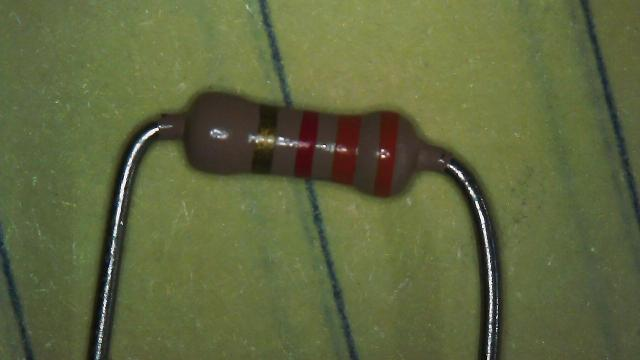gold: (252, 105, 277, 174)
orange: (374, 112, 398, 196), (332, 116, 360, 185)
red: (294, 110, 320, 178)
resistor: (155, 72, 438, 215)
